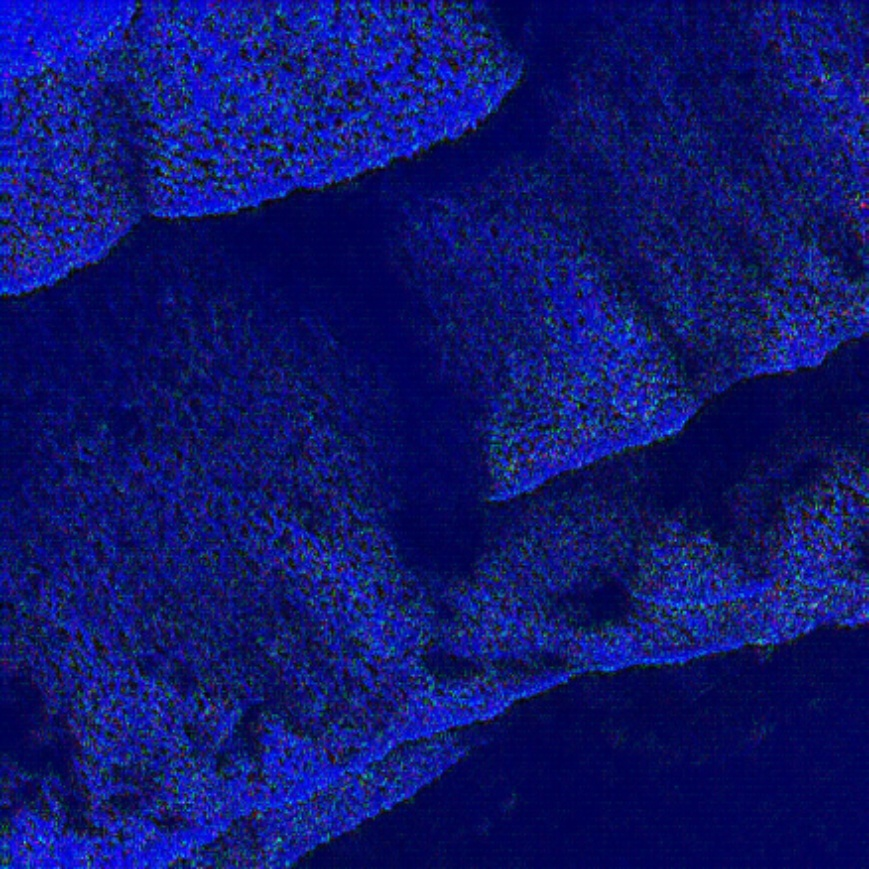rip_current: (252, 211, 571, 610)
